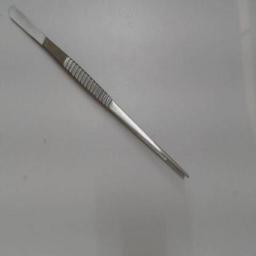DeBakey Dissector: (6, 2, 196, 190)
